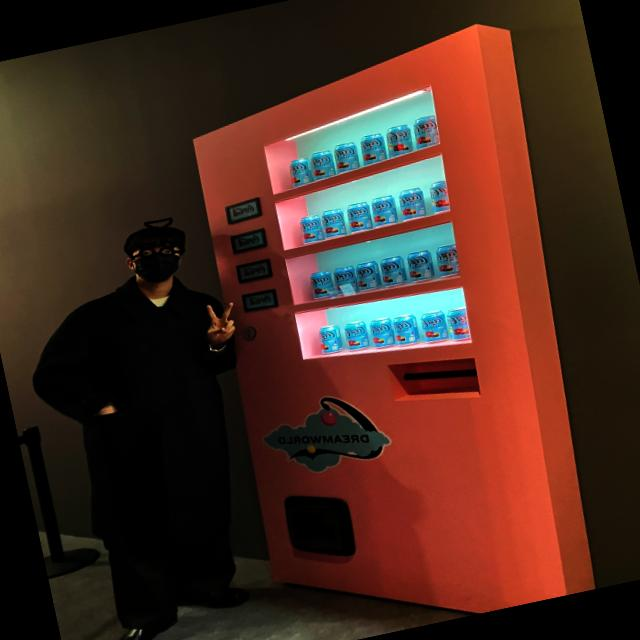coat: (15, 255, 271, 572)
slacks: (101, 514, 247, 634)
